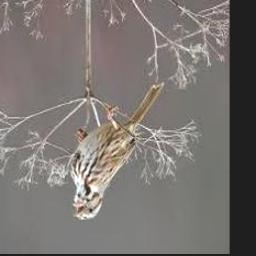Sparrow: (69, 82, 165, 221)
